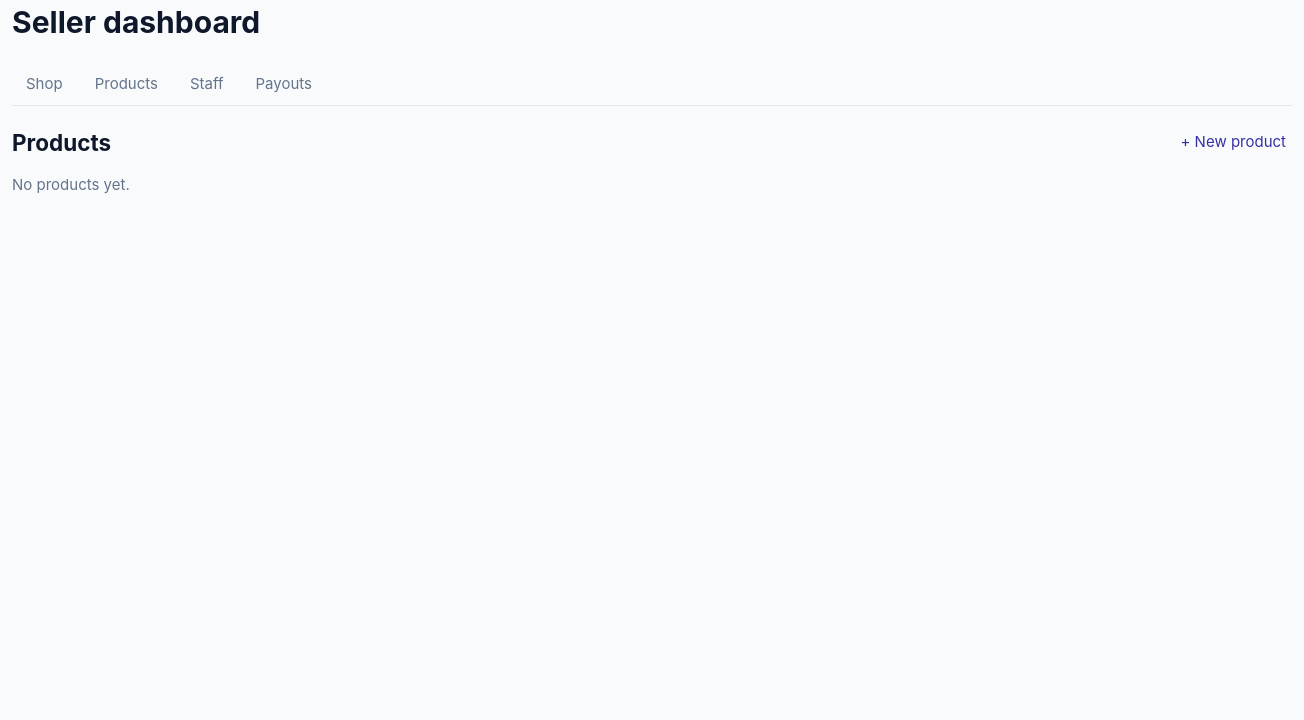
SellerProducts › creates a product from the new-product form and reloads the list
Expected: the text "No products yet." is shown, top-left (12, 175), bottom-right (130, 194)
Click the button "+ New product".
click(1233, 142)  # box top-left (1174, 130), bottom-right (1292, 155)
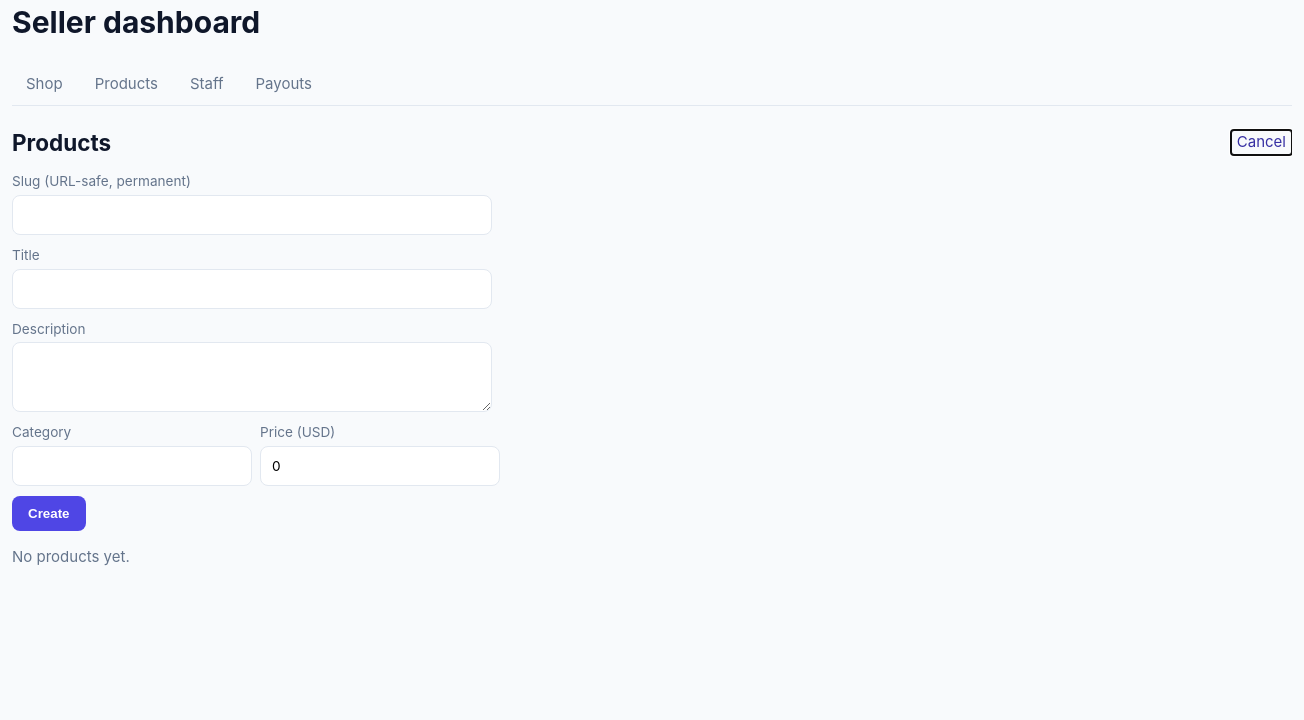
Type "trail-cap" into the field labelled "Slug (URL-safe, permanent)".
click(252, 215); type("trail-cap")  # box top-left (12, 195), bottom-right (492, 235)
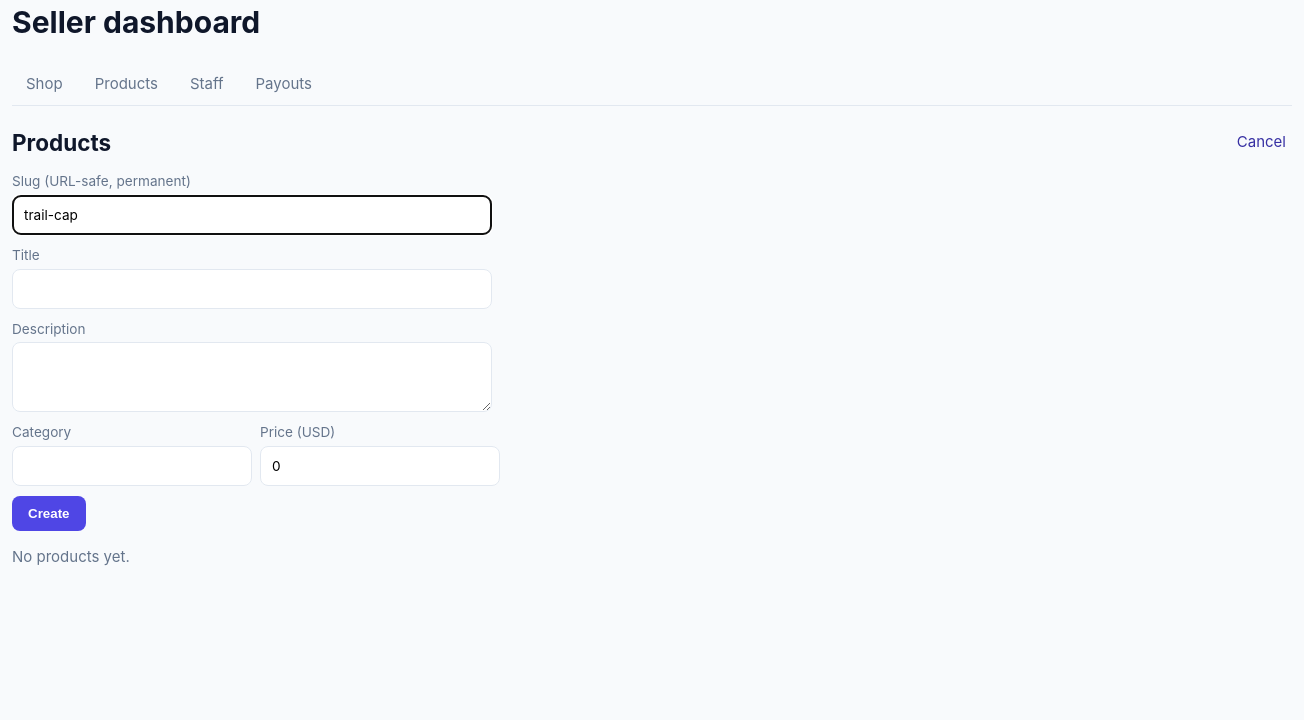
Type "Trail Cap" into the field labelled "Title".
click(252, 289); type("Trail Cap")  # box top-left (12, 268), bottom-right (492, 309)
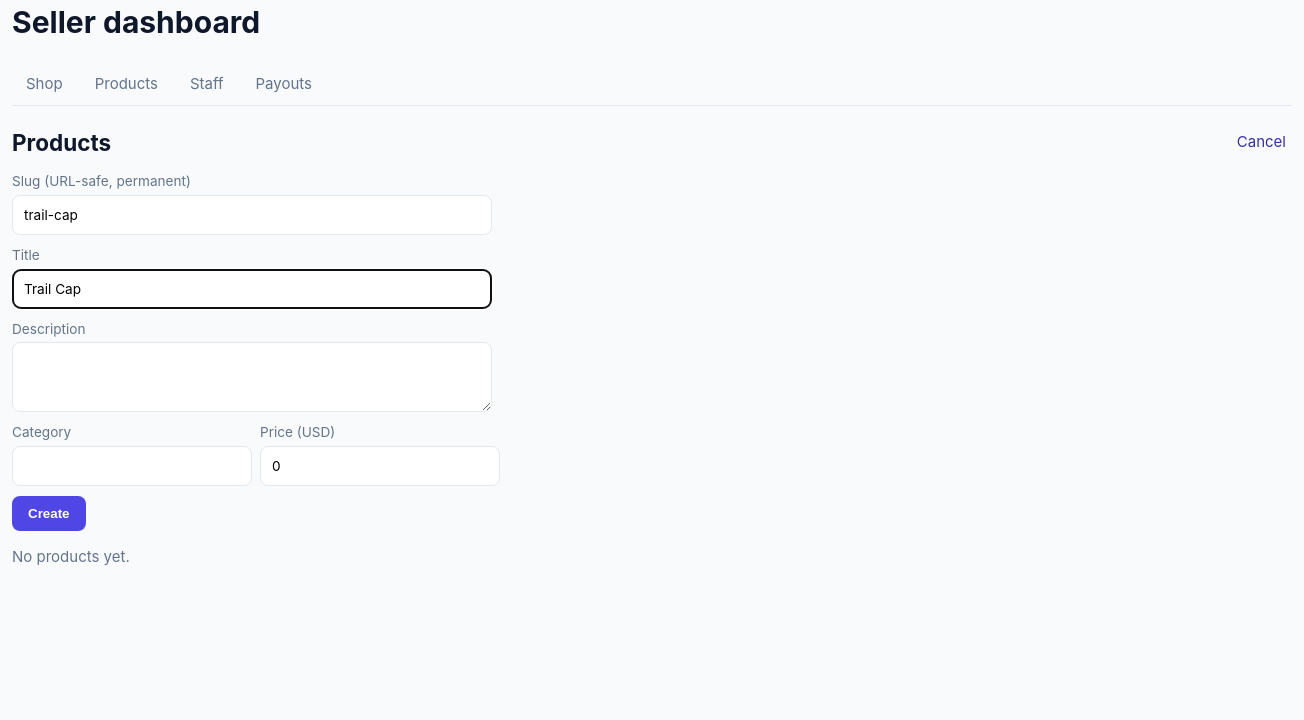
Type "apparel" into the field labelled "Category".
click(132, 466); type("apparel")  # box top-left (12, 446), bottom-right (252, 486)
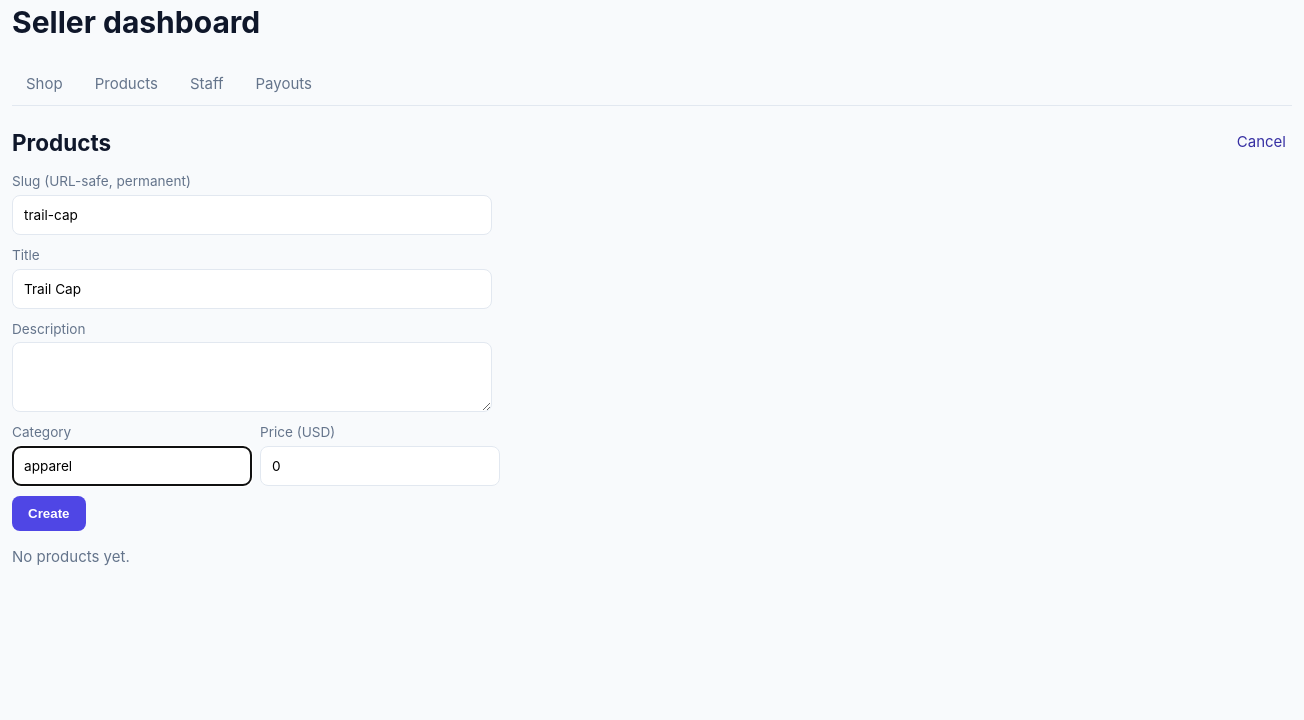
Replace the text in the number field labelled "Price (USD)" with "24.5" at [380, 466], box top-left (260, 446), bottom-right (500, 486)
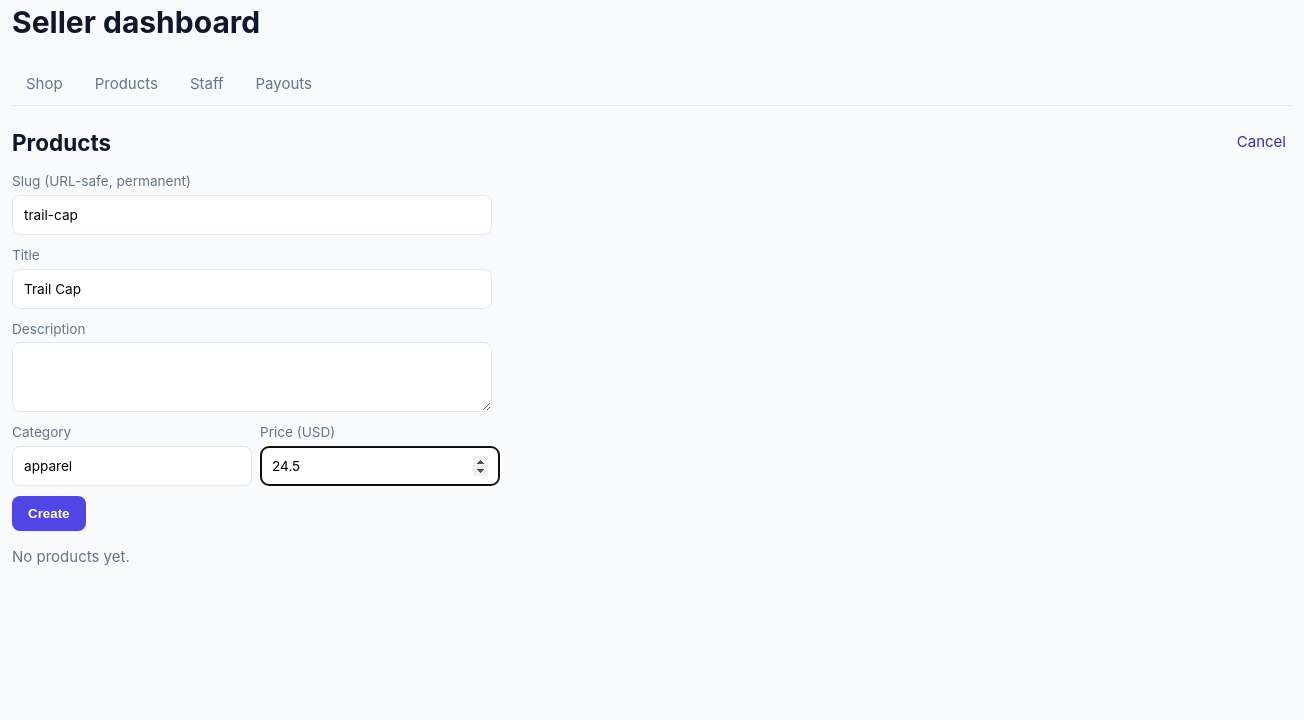
Click the button "Create".
click(49, 514)  # box top-left (12, 496), bottom-right (86, 531)
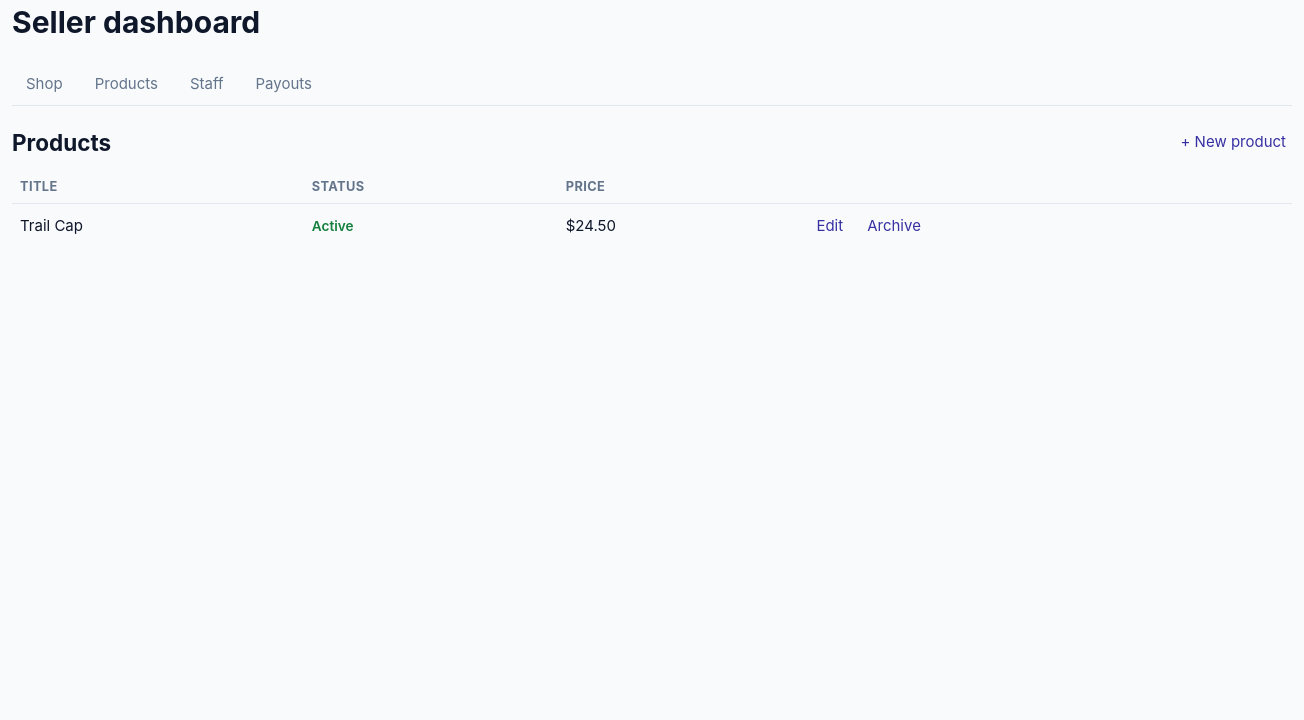
Expected: the button "Create" is gone
